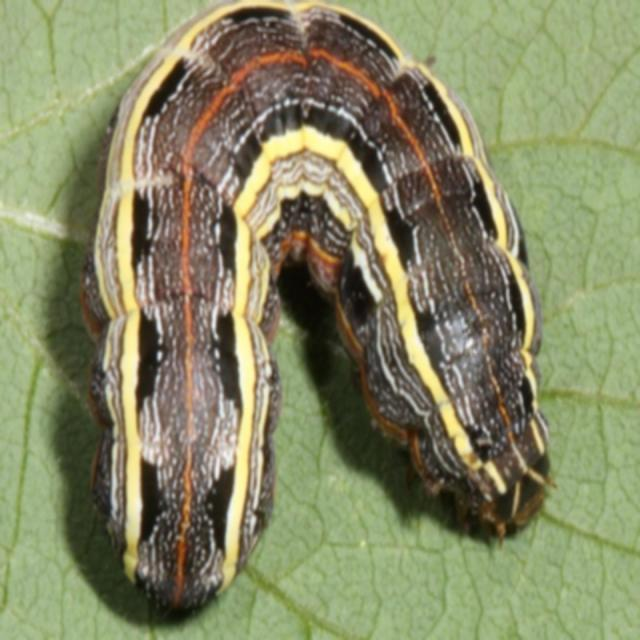army worm: (81, 5, 554, 629)
